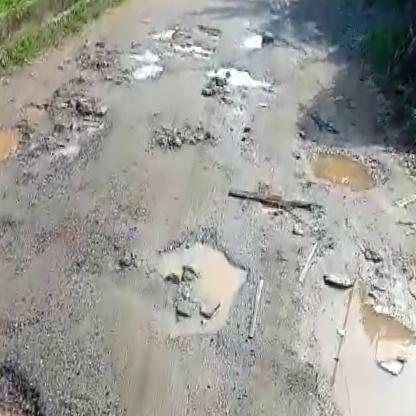pothole: (275, 269, 416, 416), (147, 227, 258, 340), (0, 80, 115, 184), (0, 337, 110, 416), (303, 137, 396, 196), (228, 184, 332, 236), (152, 117, 218, 156), (199, 64, 258, 106), (208, 59, 277, 94), (116, 45, 169, 87), (155, 26, 221, 58), (0, 120, 32, 171)
